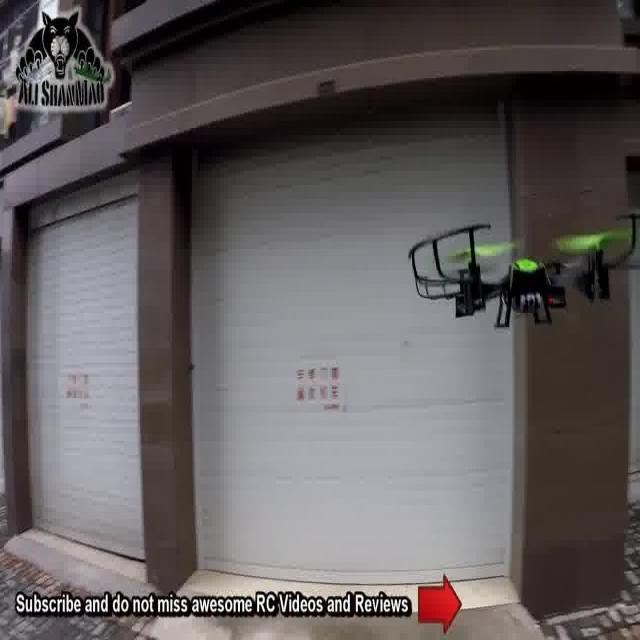drones: (405, 203, 640, 337)
